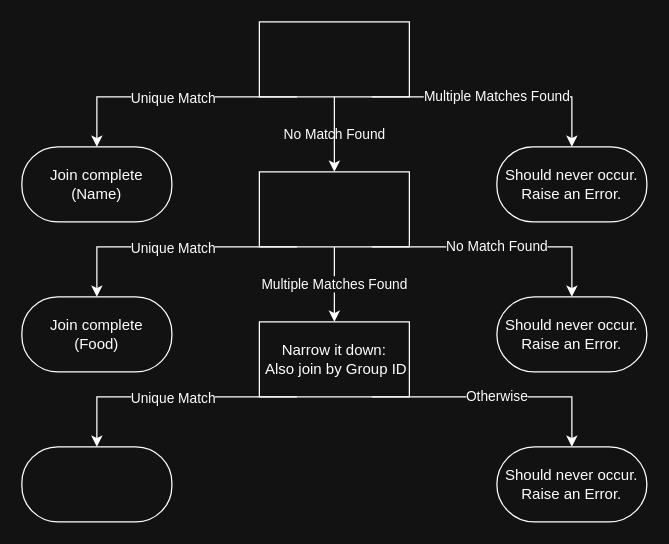
The diagram is 669 pixels wide and 544 high, and some of its shapes have lost their labels. The centre of each missing label's shape, as x and y in pixels:
Join by Favourite Food: the point at 333,209
Join by Name: the point at 333,59
Join complete (Food and Group): the point at 96,484
